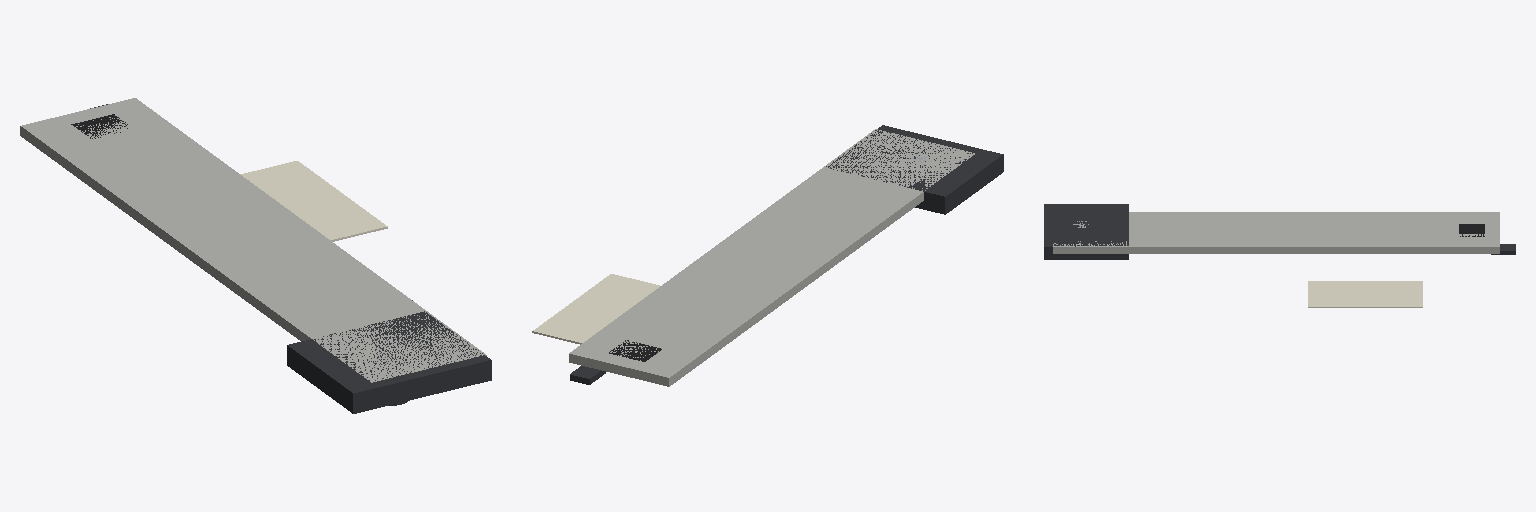
URDF robot description (windshield_sun_visor_assembly):
<robot name="windshield_sun_visor_assembly">
  <material name="headliner_fabric">
    <color rgba="0.72 0.72 0.7 1" />
    </material>
  <material name="visor_vinyl">
    <color rgba="0.63 0.64 0.66 1" />
    </material>
  <material name="textured_trim">
    <color rgba="0.26 0.27 0.29 1" />
    </material>
  <material name="clip_plastic">
    <color rgba="0.18 0.18 0.19 1" />
    </material>
  <material name="warning_label">
    <color rgba="0.88 0.86 0.8 1" />
    </material>
  <material name="brushed_steel">
    <color rgba="0.66 0.68 0.71 1" />
    </material>
  <link name="roof_mount">
    <inertial>
      <origin xyz="0.028 0.185 -0.01" rpy="0 0 0" />
      <mass value="0.55" />
      <inertia ixx="0.00630098" ixy="0" ixz="0" iyy="0.00039765" iyz="0" izz="0.00664583" />
      </inertial>
    <visual>
      <origin xyz="0.028 0.185 -0.003" rpy="0 0 0" />
      <geometry>
        <box size="0.07 0.37 0.006" />
        </geometry>
      <material name="headliner_fabric">
        <color rgba="0.72 0.72 0.7 1" />
        </material>
      </visual>
    <visual>
      <origin xyz="0.02 0.028 -0.006" rpy="0 0 0" />
      <geometry>
        <box size="0.084 0.07 0.012" />
        </geometry>
      <material name="textured_trim">
        <color rgba="0.26 0.27 0.29 1" />
        </material>
      </visual>
    <visual>
      <origin xyz="0.018 0.024 -0.013" rpy="0 0 0" />
      <geometry>
        <cylinder radius="0.016" length="0.014" />
        </geometry>
      <material name="textured_trim">
        <color rgba="0.26 0.27 0.29 1" />
        </material>
      </visual>
    <visual>
      <origin xyz="0.018 0.024 -0.0215" rpy="0 0 0" />
      <geometry>
        <cylinder radius="0.011" length="0.005" />
        </geometry>
      <material name="textured_trim">
        <color rgba="0.26 0.27 0.29 1" />
        </material>
      </visual>
    <visual>
      <origin xyz="0.036 0.11 -0.0055" rpy="0 0 0" />
      <geometry>
        <cylinder radius="0.006" length="0.002" />
        </geometry>
      <material name="headliner_fabric">
        <color rgba="0.72 0.72 0.7 1" />
        </material>
      </visual>
    <visual>
      <origin xyz="0.036 0.286 -0.0055" rpy="0 0 0" />
      <geometry>
        <cylinder radius="0.006" length="0.002" />
        </geometry>
      <material name="headliner_fabric">
        <color rgba="0.72 0.72 0.7 1" />
        </material>
      </visual>
    <collision name="roof_mount__visual_1">
      <origin xyz="0.028 0.185 -0.003" rpy="0 0 0" />
      <geometry>
        <box size="0.07 0.37 0.006" />
        </geometry>
      </collision>
    <collision name="roof_mount__visual_2">
      <origin xyz="0.02 0.028 -0.006" rpy="0 0 0" />
      <geometry>
        <box size="0.084 0.07 0.012" />
        </geometry>
      </collision>
    <collision name="roof_mount__visual_3">
      <origin xyz="0.018 0.024 -0.013" rpy="0 0 0" />
      <geometry>
        <cylinder radius="0.016" length="0.014" />
        </geometry>
      </collision>
    <collision name="roof_mount__visual_4">
      <origin xyz="0.018 0.024 -0.0215" rpy="0 0 0" />
      <geometry>
        <cylinder radius="0.011" length="0.005" />
        </geometry>
      </collision>
    <collision name="roof_mount__visual_5">
      <origin xyz="0.036 0.11 -0.0055" rpy="0 0 0" />
      <geometry>
        <cylinder radius="0.006" length="0.002" />
        </geometry>
      </collision>
    <collision name="roof_mount__visual_6">
      <origin xyz="0.036 0.286 -0.0055" rpy="0 0 0" />
      <geometry>
        <cylinder radius="0.006" length="0.002" />
        </geometry>
      </collision>
    </link>
  <link name="swivel_hub">
    <inertial>
      <origin xyz="0 0.01 -0.008" rpy="0 0 0" />
      <mass value="0.12" />
      <inertia ixx="1.625e-05" ixy="0" ixz="0" iyy="8e-06" iyz="0" izz="1.625e-05" />
      </inertial>
    <visual>
      <origin xyz="0 0 -0.008" rpy="0 0 0" />
      <geometry>
        <cylinder radius="0.007" length="0.016" />
        </geometry>
      <material name="brushed_steel">
        <color rgba="0.66 0.68 0.71 1" />
        </material>
      </visual>
    <visual>
      <origin xyz="0 0 -0.012" rpy="0 0 0" />
      <geometry>
        <cylinder radius="0.012" length="0.008" />
        </geometry>
      <material name="textured_trim">
        <color rgba="0.26 0.27 0.29 1" />
        </material>
      </visual>
    <visual>
      <origin xyz="0 0.014 -0.008" rpy="-1.5708 0 0" />
      <geometry>
        <cylinder radius="0.007" length="0.03" />
        </geometry>
      <material name="brushed_steel">
        <color rgba="0.66 0.68 0.71 1" />
        </material>
      </visual>
    <visual>
      <origin xyz="0 0.01 -0.008" rpy="0 0 0" />
      <geometry>
        <box size="0.014 0.02 0.01" />
        </geometry>
      <material name="textured_trim">
        <color rgba="0.26 0.27 0.29 1" />
        </material>
      </visual>
    <collision name="swivel_hub__visual_1">
      <origin xyz="0 0 -0.008" rpy="0 0 0" />
      <geometry>
        <cylinder radius="0.007" length="0.016" />
        </geometry>
      </collision>
    <collision name="swivel_hub__visual_2">
      <origin xyz="0 0 -0.012" rpy="0 0 0" />
      <geometry>
        <cylinder radius="0.012" length="0.008" />
        </geometry>
      </collision>
    <collision name="swivel_hub__visual_3">
      <origin xyz="0 0.014 -0.008" rpy="-1.5708 0 0" />
      <geometry>
        <cylinder radius="0.007" length="0.03" />
        </geometry>
      </collision>
    <collision name="swivel_hub__visual_4">
      <origin xyz="0 0.01 -0.008" rpy="0 0 0" />
      <geometry>
        <box size="0.014 0.02 0.01" />
        </geometry>
      </collision>
    </link>
  <link name="visor">
    <inertial>
      <origin xyz="0.082 0.21 -0.01" rpy="0 0 0" />
      <mass value="0.72" />
      <inertia ixx="0.0059775" ixy="0" ixz="0" iyy="0.0012855" iyz="0" izz="0.007215" />
      </inertial>
    <visual>
      <geometry>
        <mesh filename="meshes/visor_support_rod.obj" />
        </geometry>
      <material name="brushed_steel">
        <color rgba="0.66 0.68 0.71 1" />
        </material>
      </visual>
    <visual>
      <geometry>
        <mesh filename="meshes/visor_panel.obj" />
        </geometry>
      <material name="visor_vinyl">
        <color rgba="0.63 0.64 0.66 1" />
        </material>
      </visual>
    <visual>
      <origin xyz="0.018 0.082 -0.0006" rpy="0 0 0" />
      <geometry>
        <box size="0.024 0.038 0.0028" />
        </geometry>
      <material name="textured_trim">
        <color rgba="0.26 0.27 0.29 1" />
        </material>
      </visual>
    <visual>
      <origin xyz="0.082 0.235 -0.0179" rpy="0 0 0" />
      <geometry>
        <box size="0.05 0.095 0.0012" />
        </geometry>
      <material name="warning_label">
        <color rgba="0.88 0.86 0.8 1" />
        </material>
      </visual>
    <visual>
      <origin xyz="0.03 0.349 -0.0008" rpy="0 0 0" />
      <geometry>
        <box size="0.014 0.02 0.004" />
        </geometry>
      <material name="textured_trim">
        <color rgba="0.26 0.27 0.29 1" />
        </material>
      </visual>
    <collision name="visor__visual_1__hull_001">
      <geometry>
        <mesh filename="meshes/collision/cache/225adab010e18f081d36c6b3__hull_001.obj" />
        </geometry>
      </collision>
    <collision name="visor__visual_1__hull_002">
      <geometry>
        <mesh filename="meshes/collision/cache/225adab010e18f081d36c6b3__hull_002.obj" />
        </geometry>
      </collision>
    <collision name="visor__visual_2__hull_001">
      <geometry>
        <mesh filename="meshes/collision/cache/e34edf07bd4004c07f4eddf9__hull_001.obj" />
        </geometry>
      </collision>
    <collision name="visor__visual_3">
      <origin xyz="0.018 0.082 -0.0006" rpy="0 0 0" />
      <geometry>
        <box size="0.024 0.038 0.0028" />
        </geometry>
      </collision>
    <collision name="visor__visual_4">
      <origin xyz="0.082 0.235 -0.0179" rpy="0 0 0" />
      <geometry>
        <box size="0.05 0.095 0.0012" />
        </geometry>
      </collision>
    <collision name="visor__visual_5">
      <origin xyz="0.03 0.349 -0.0008" rpy="0 0 0" />
      <geometry>
        <box size="0.014 0.02 0.004" />
        </geometry>
      </collision>
    </link>
  <link name="retaining_clip">
    <inertial>
      <origin xyz="0 0 -0.01" rpy="0 0 0" />
      <mass value="0.03" />
      <inertia ixx="2.44e-06" ixy="0" ixz="0" iyy="2.96e-06" iyz="0" izz="3.4e-06" />
      </inertial>
    <visual>
      <origin xyz="0 0 -0.003" rpy="0 0 0" />
      <geometry>
        <box size="0.026 0.022 0.006" />
        </geometry>
      <material name="clip_plastic">
        <color rgba="0.18 0.18 0.19 1" />
        </material>
      </visual>
    <visual>
      <geometry>
        <mesh filename="meshes/visor_retaining_clip.obj" />
        </geometry>
      <material name="clip_plastic">
        <color rgba="0.18 0.18 0.19 1" />
        </material>
      </visual>
    <collision name="retaining_clip__visual_1">
      <origin xyz="0 0 -0.003" rpy="0 0 0" />
      <geometry>
        <box size="0.026 0.022 0.006" />
        </geometry>
      </collision>
    <collision name="retaining_clip__visual_2__hull_001">
      <geometry>
        <mesh filename="meshes/collision/cache/f25532af606ca3ad3316deb8__hull_001.obj" />
        </geometry>
      </collision>
    <collision name="retaining_clip__visual_2__hull_002">
      <geometry>
        <mesh filename="meshes/collision/cache/f25532af606ca3ad3316deb8__hull_002.obj" />
        </geometry>
      </collision>
    <collision name="retaining_clip__visual_2__hull_003">
      <geometry>
        <mesh filename="meshes/collision/cache/f25532af606ca3ad3316deb8__hull_003.obj" />
        </geometry>
      </collision>
    <collision name="retaining_clip__visual_2__hull_004">
      <geometry>
        <mesh filename="meshes/collision/cache/f25532af606ca3ad3316deb8__hull_004.obj" />
        </geometry>
      </collision>
    </link>
  <joint name="visor_swivel" type="revolute">
    <origin xyz="0.018 0.024 0" rpy="0 0 0" />
    <parent link="roof_mount" />
    <child link="swivel_hub" />
    <axis xyz="0 0 1" />
    <limit effort="8" velocity="2.5" lower="0" upper="1.65" />
    </joint>
  <joint name="visor_tilt" type="revolute">
    <origin xyz="0 0 -0.008" rpy="0 0 0" />
    <parent link="swivel_hub" />
    <child link="visor" />
    <axis xyz="0 1 0" />
    <limit effort="6" velocity="3" lower="0" upper="1.55" />
    </joint>
  <joint name="clip_mount" type="fixed">
    <origin xyz="0.03 0.347 0" rpy="0 0 0" />
    <parent link="roof_mount" />
    <child link="retaining_clip" />
    </joint>
  </robot>

--- Facts derived from the render (not from the file) ---
Views: 3 orthographic renders of the robot side by side, from view 1: azimuth 30°, elevation 25°; view 2: azimuth 150°, elevation 25°; view 3: azimuth 270°, elevation 25°.
Robot: windshield_sun_visor_assembly — 4 links, 3 joints (2 revolute, 1 fixed); root link roof_mount; default pose: every joint at zero.
Visible links, largest first — view 1: roof_mount, visor, retaining_clip; view 2: roof_mount, visor; view 3: roof_mount, visor.
Link boxes in pixels (bbox=[...]): roof_mount: bbox=[20, 98, 491, 413]; visor: bbox=[90, 104, 387, 241]; retaining_clip: bbox=[71, 114, 127, 138]; roof_mount: bbox=[569, 125, 1003, 386]; visor: bbox=[532, 274, 659, 384]; roof_mount: bbox=[1044, 204, 1499, 259]; visor: bbox=[1308, 244, 1515, 307].
Size in the robot's own frame: 0.147 by 0.39 by 0.0265 metres.
0 mesh visuals loaded from 3 distinct referenced files (none loaded); not drawn: 3 (reference not matched to a file when rendering).
